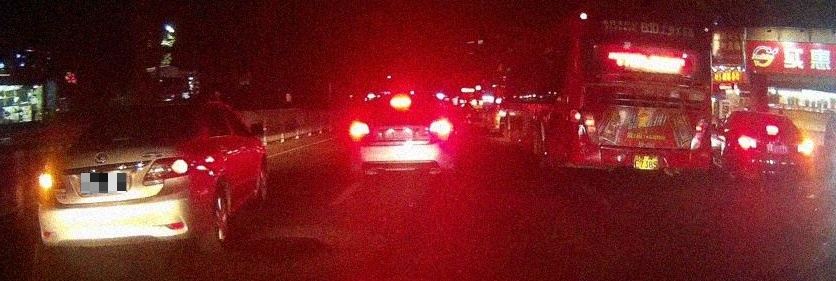L_light: (580, 110, 600, 143), (38, 173, 66, 190), (738, 137, 755, 149), (354, 125, 370, 135)
R_light: (143, 157, 192, 180), (691, 119, 708, 148), (429, 121, 450, 133), (797, 141, 813, 152)
T_light: (391, 99, 411, 106), (637, 19, 656, 26), (145, 105, 164, 111), (765, 126, 778, 133)
night-brake: (352, 97, 452, 175)
night-left: (38, 101, 199, 259)
night-no: (570, 10, 712, 176)
night-right: (736, 110, 814, 185)
plate_1: (81, 173, 126, 193)
